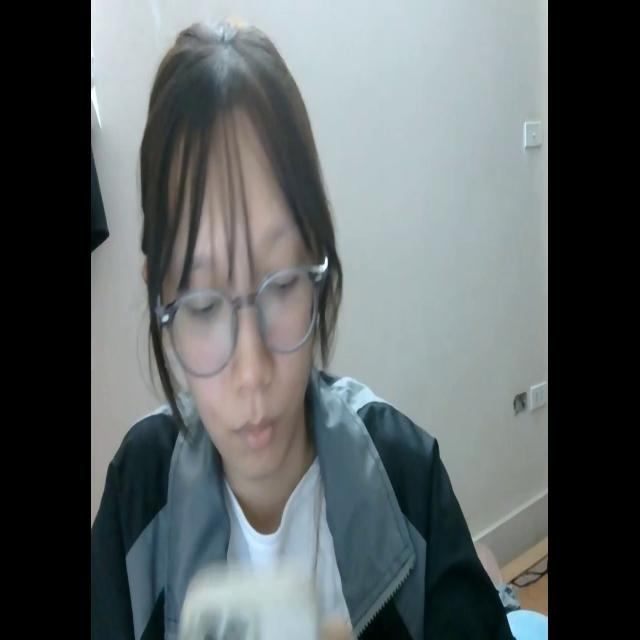student: (91, 19, 510, 640)
